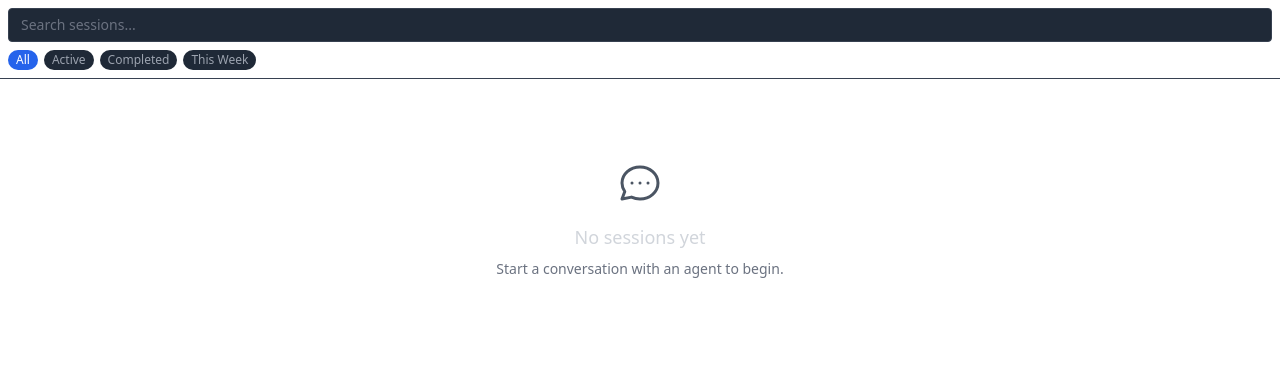
Test case: SessionList › empty state › shows Clear Search button in empty search results
Type "test" into the field with placeholder "Search sessions..." at (640, 25), box [8,8,1272,42]
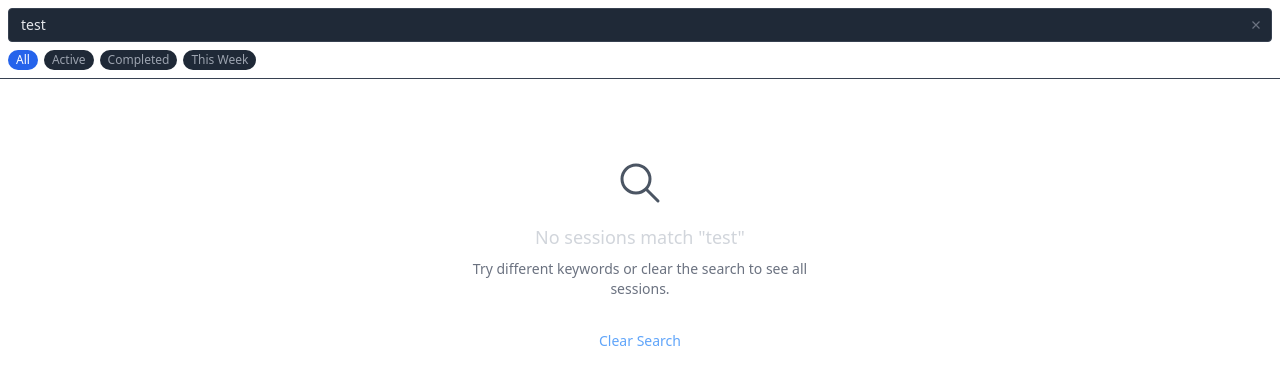
Expected: the button "Clear Search" is shown, [599,331,681,351]
